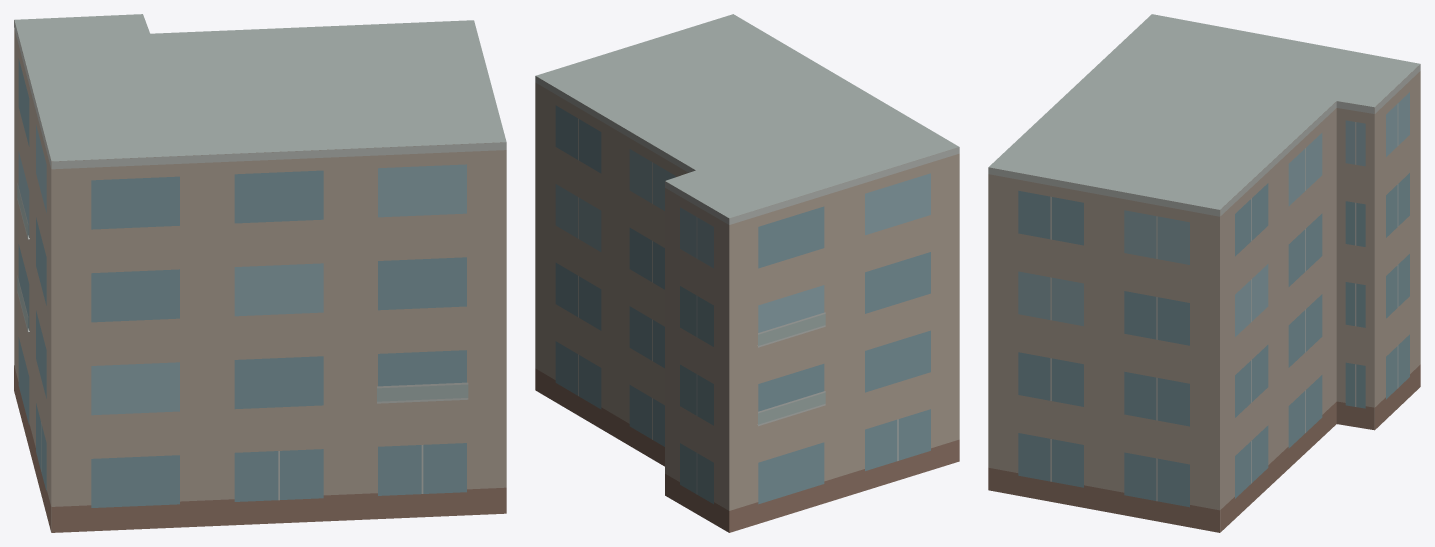
The model's file is survey-upis-32780457.glb.
3 renders of one model, left to right at view 1: azimuth 30°, elevation 25°; view 2: azimuth 150°, elevation 25°; view 3: azimuth 270°, elevation 25°, orthographic. The views are drawn at different scales.
Visible parts, largest first — view 1: survey-upis-32780457.tmp; view 2: survey-upis-32780457.tmp; view 3: survey-upis-32780457.tmp.
Part boxes in pixels (bbox=[...]): survey-upis-32780457.tmp: bbox=[14, 14, 506, 532]; survey-upis-32780457.tmp: bbox=[535, 14, 959, 532]; survey-upis-32780457.tmp: bbox=[988, 14, 1420, 532].
Bounding box in the file's own units: 14.97 × 11.5 × 13.96.
